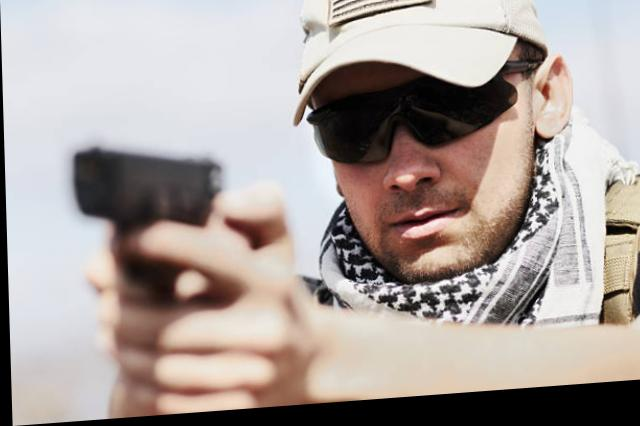other: (234, 0, 618, 410)
